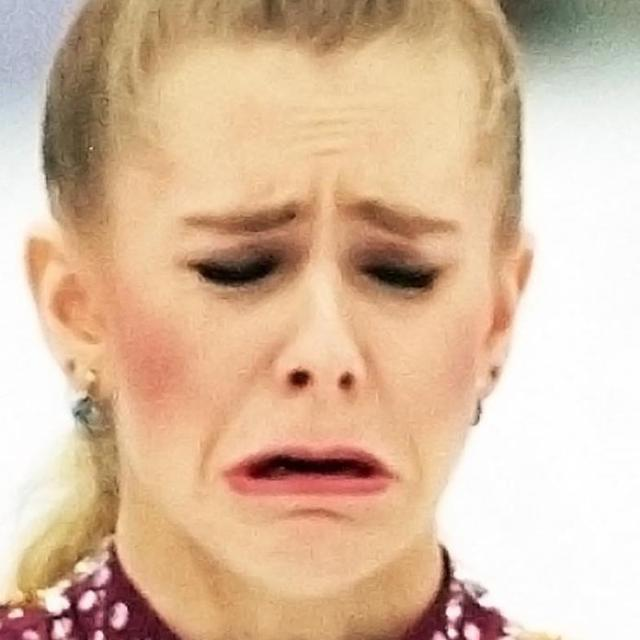Depress: (101, 55, 493, 604)
